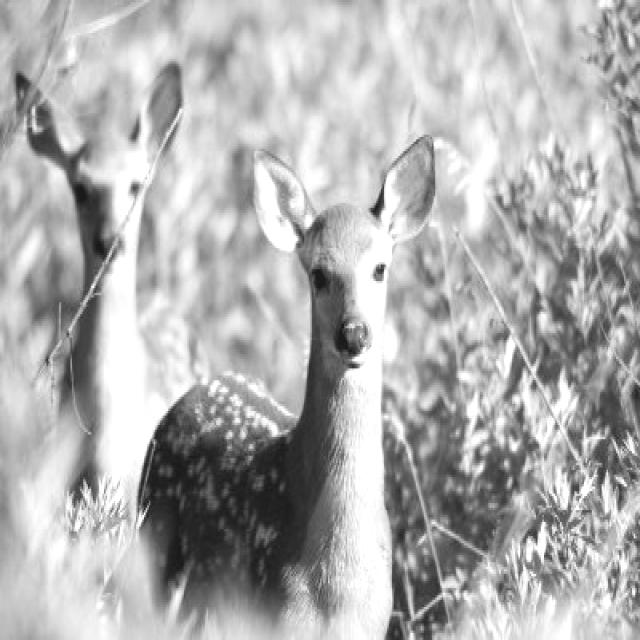deer: (255, 107, 451, 407), (6, 49, 190, 266)
